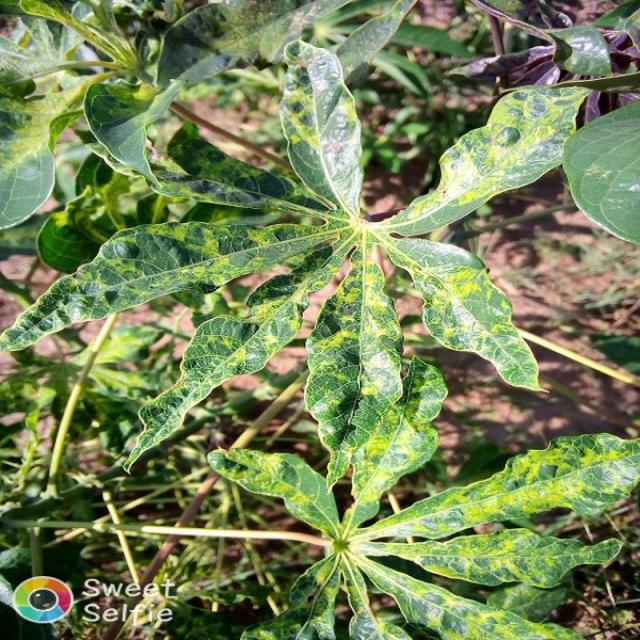Mosaico: (55, 65, 525, 412), (217, 354, 561, 628)
